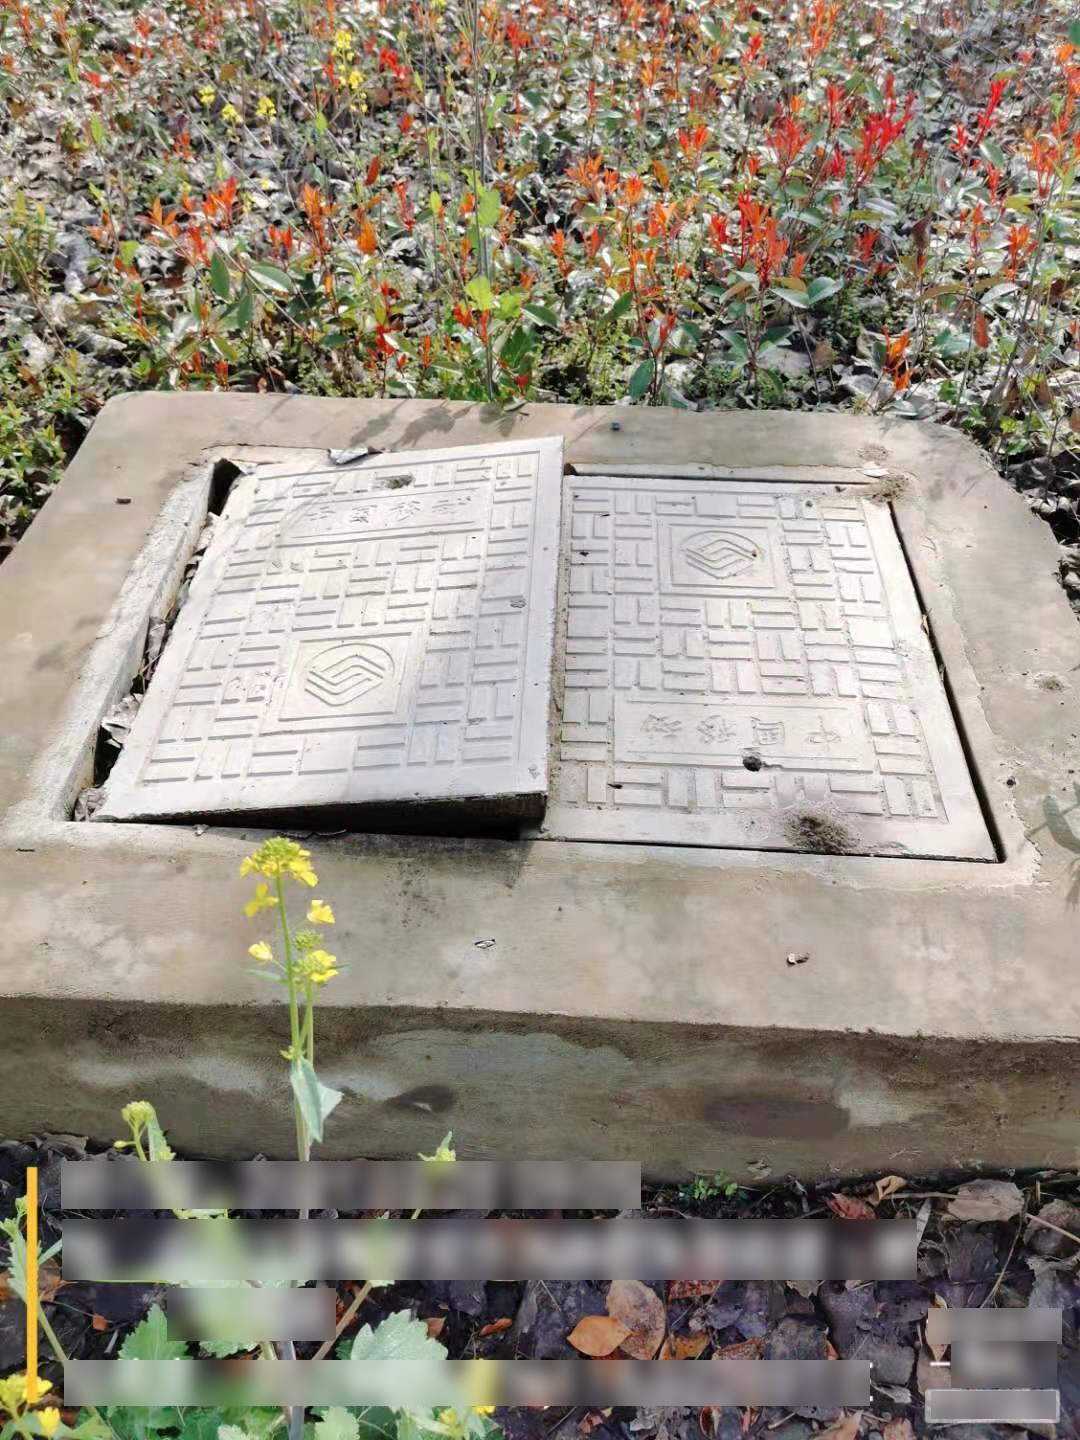uncovered: (2, 433, 1033, 886)
